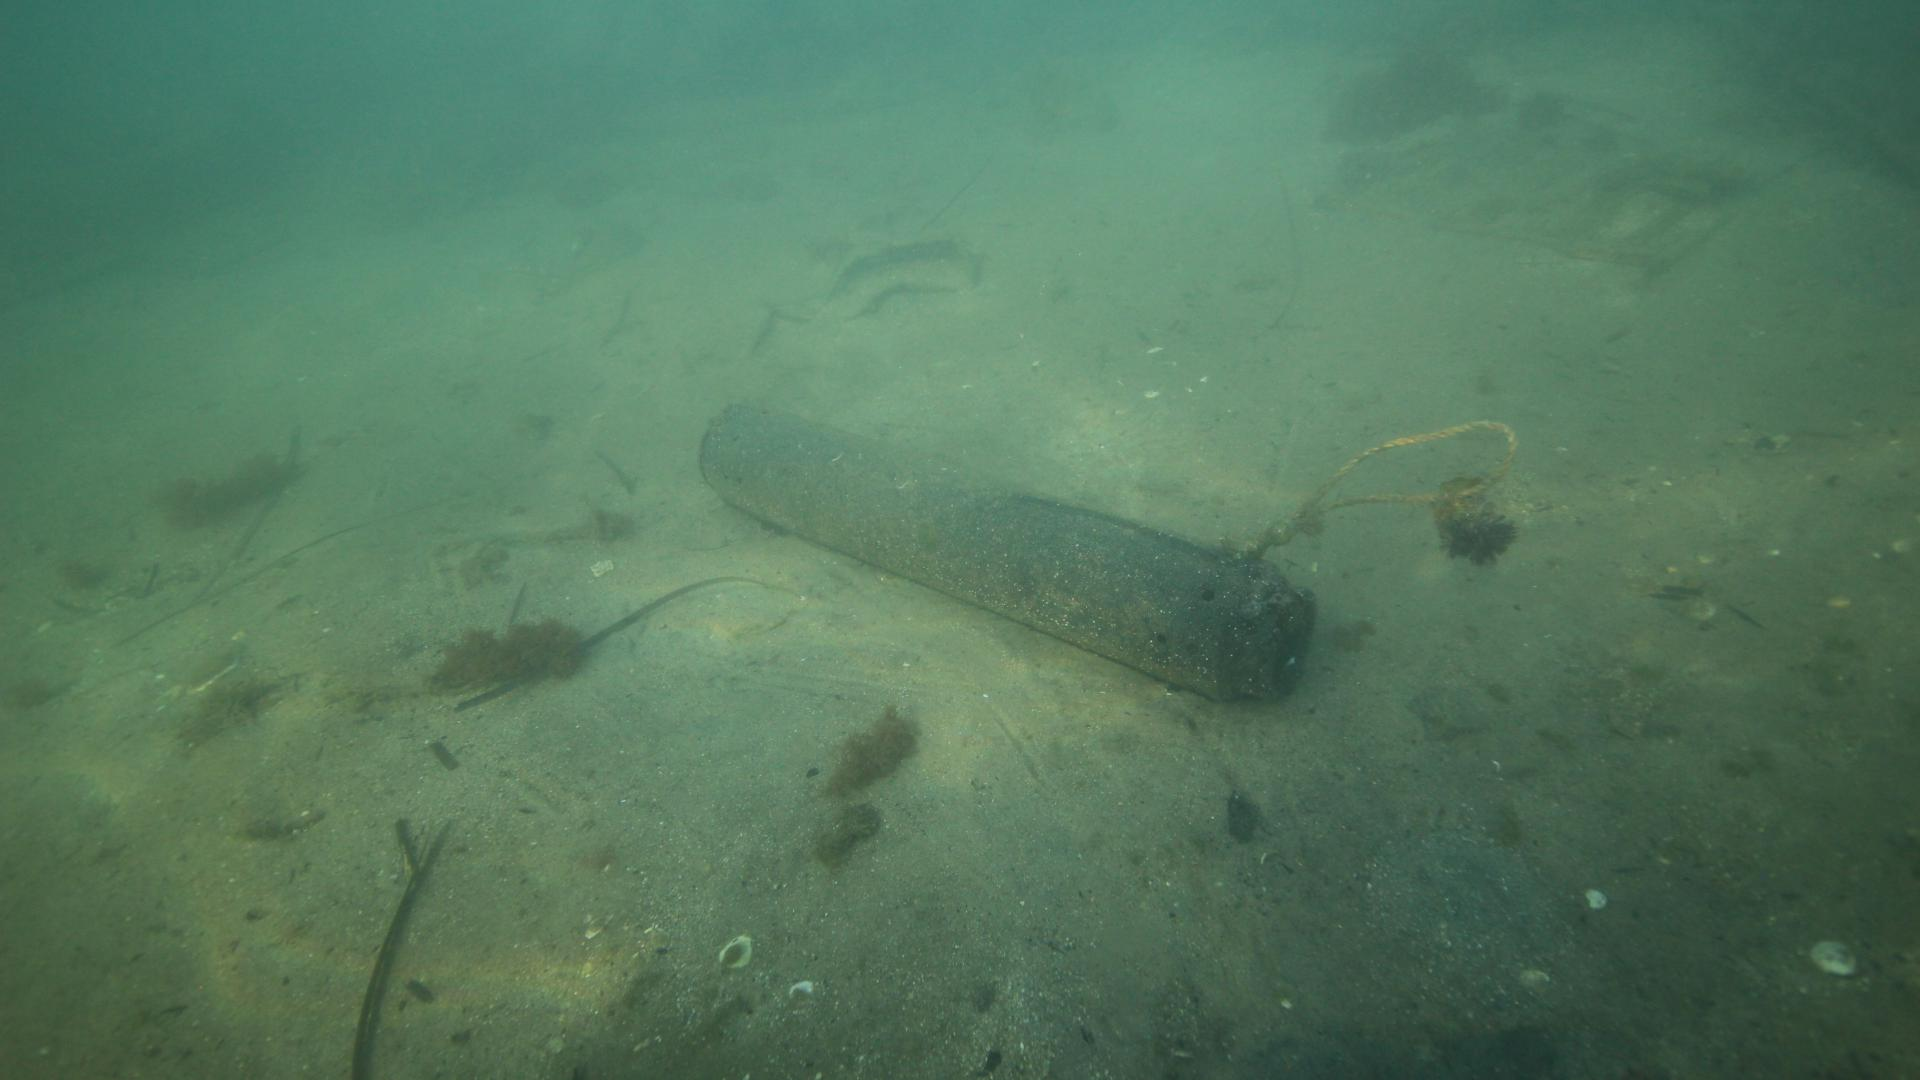bundle of ropes: (1240, 411, 1527, 558)
eel fish trap: (698, 400, 1319, 704)
